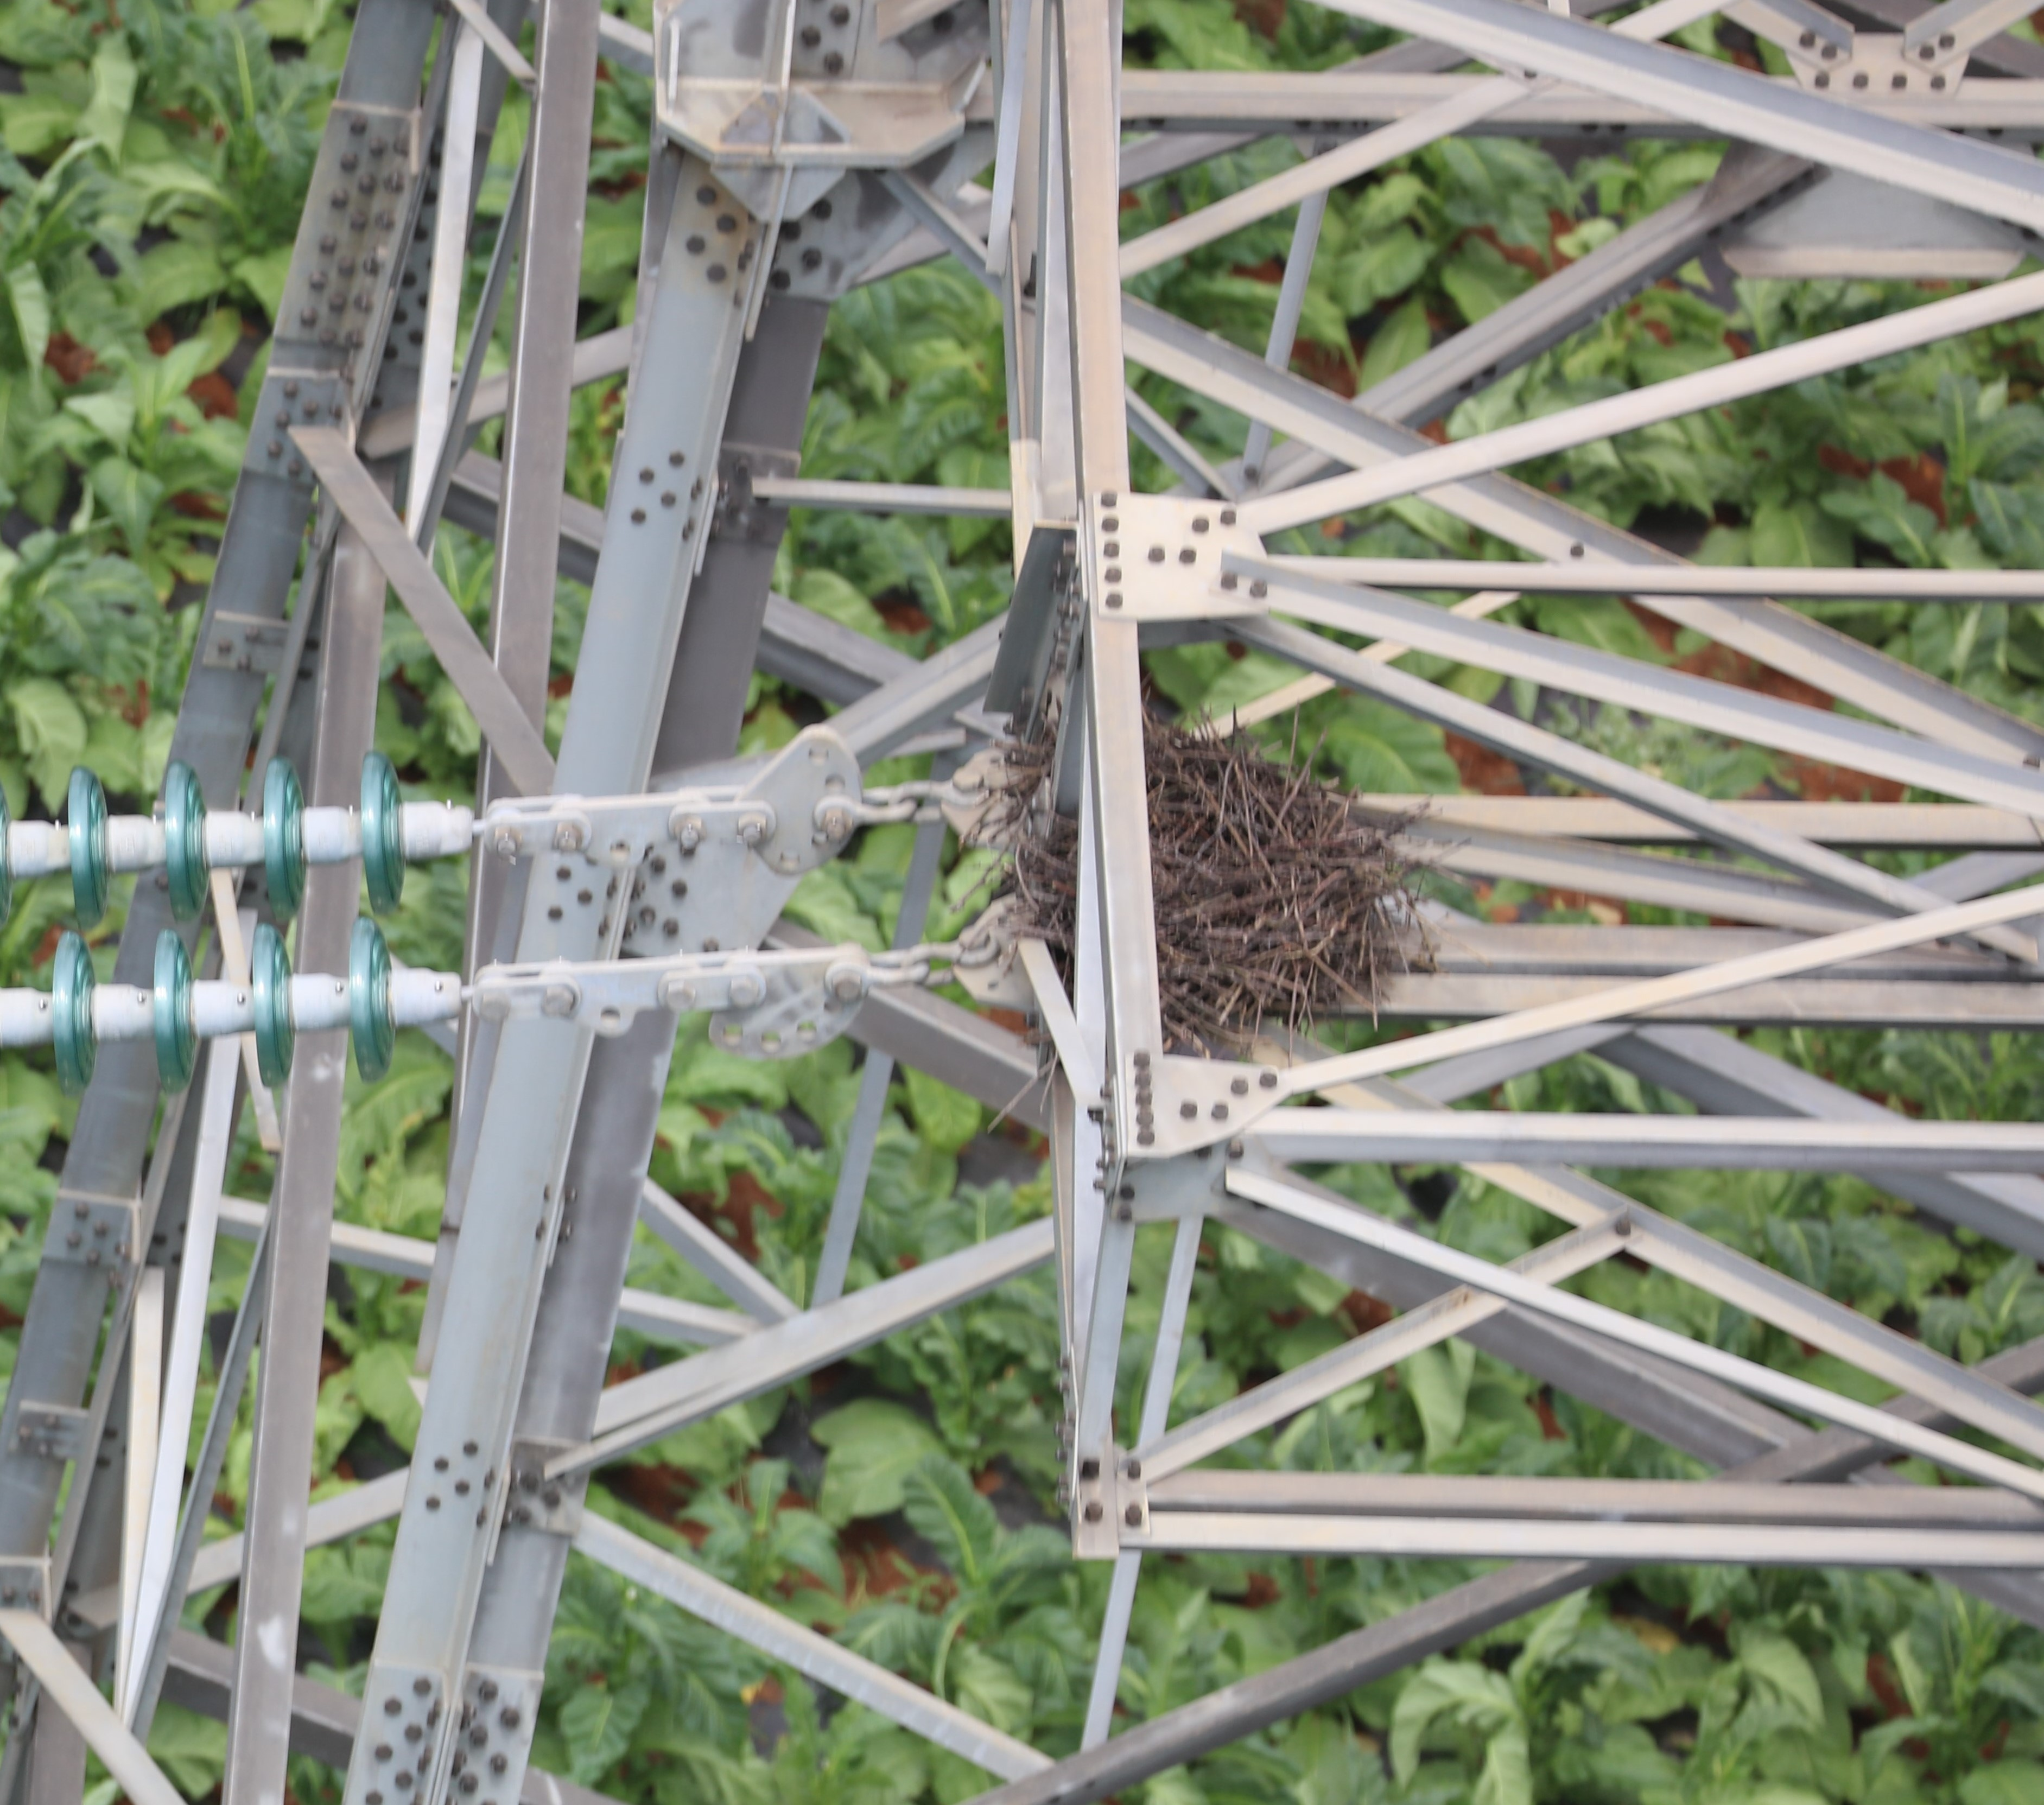niaowo: (1023, 688, 1432, 1052)
